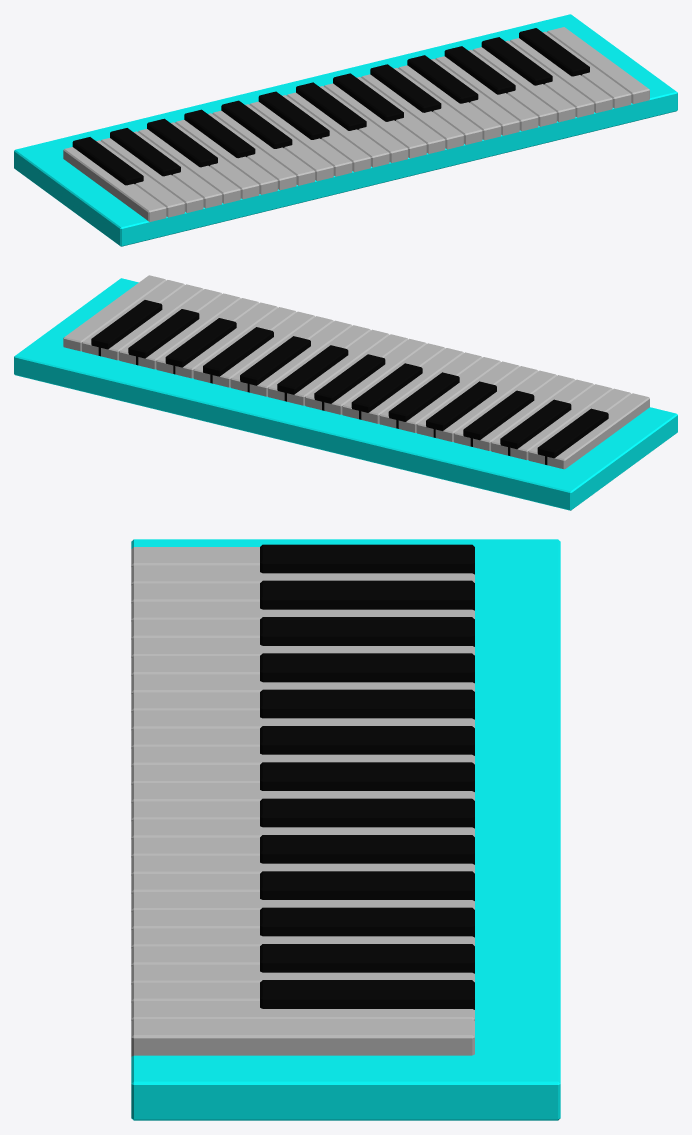
Rendered from Keyboard.fbx.
3 renders of one model, top to bottom at view 1: azimuth 30°, elevation 25°; view 2: azimuth 150°, elevation 25°; view 3: azimuth 270°, elevation 25°, orthographic. The views are drawn at different scales.
Parts seen in each view (by area): view 1: boolean2; view 2: boolean2; view 3: boolean2.
Boxes of the visible parts, bbox=[...] form: boolean2: bbox=[14, 14, 677, 246]; boolean2: bbox=[14, 275, 677, 510]; boolean2: bbox=[131, 539, 560, 1120].
Bounding box in the file's own units: 3 × 0.18 × 1.
